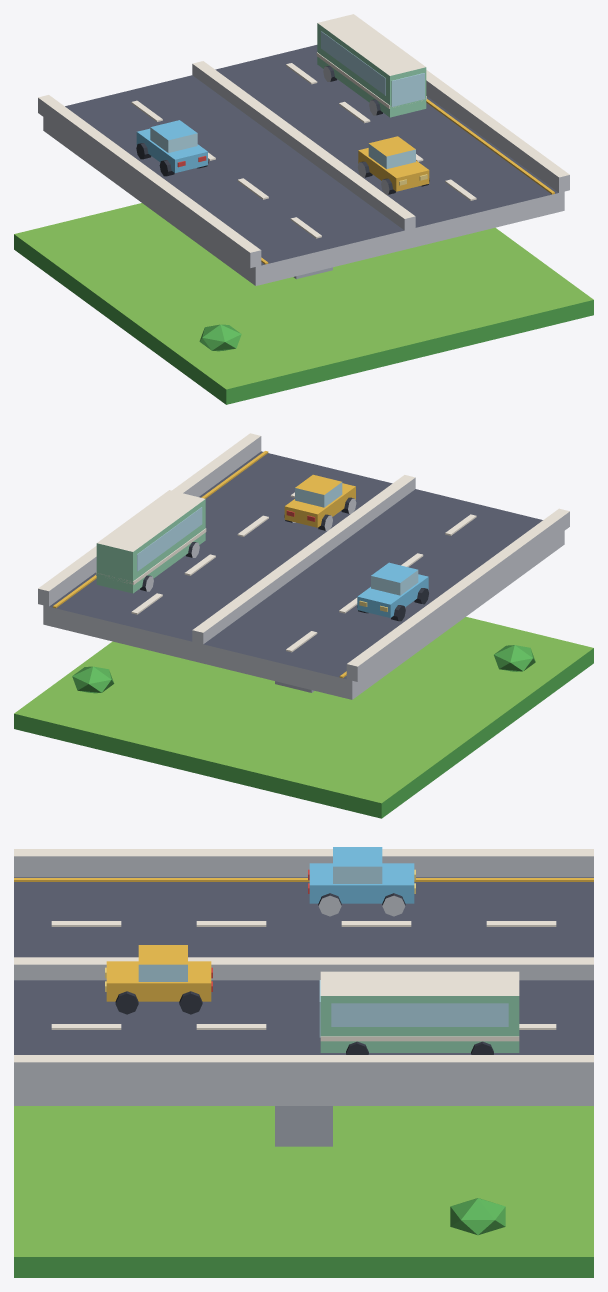
The model's file is highway_straight.glb.
The picture shows the model from 3 angles, top to bottom: view 1: azimuth 30°, elevation 25°; view 2: azimuth 150°, elevation 25°; view 3: azimuth 270°, elevation 25°; orthographic projection. The views are drawn at different scales.
Parts seen in each view (by area): view 1: highway_straight; view 2: highway_straight; view 3: highway_straight.
Boxes of the visible parts, x1=… form: highway_straight: x1=14, y1=14, x2=593, y2=404; highway_straight: x1=14, y1=433, x2=593, y2=818; highway_straight: x1=14, y1=847, x2=593, y2=1277.
Size of the model in its own units: 1 by 0.466 by 1.
